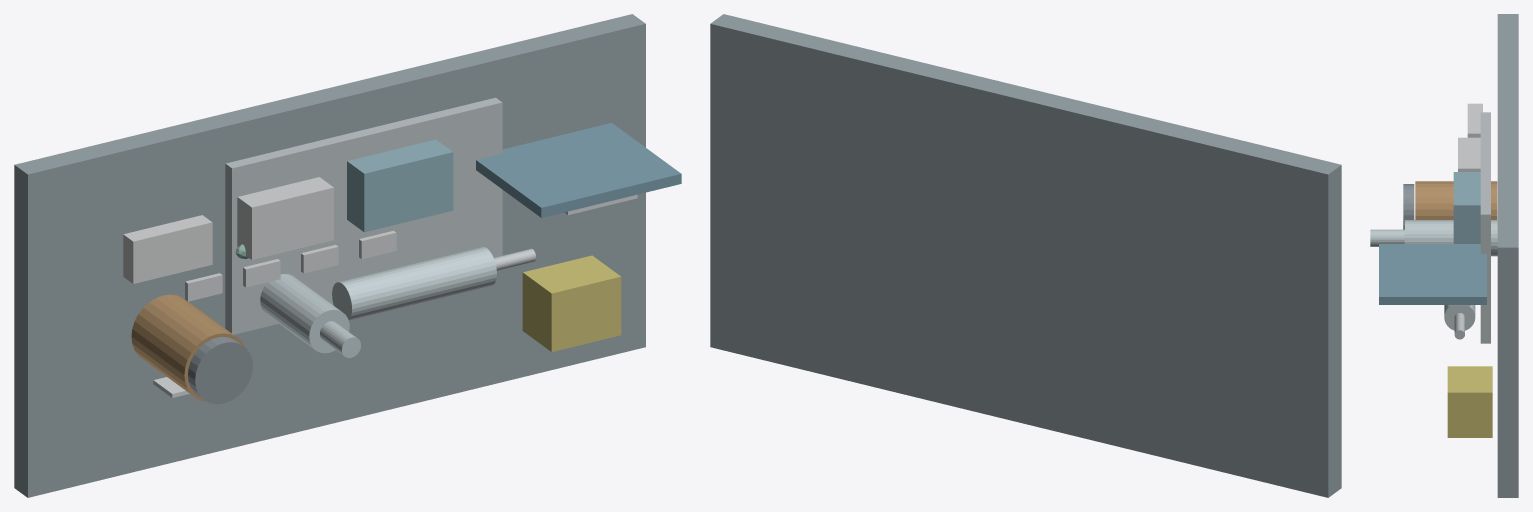
The model's file is medication-bench-high.glb.
The picture shows the model from 3 angles, left to right: view 1: azimuth 30°, elevation 25°; view 2: azimuth 150°, elevation 25°; view 3: azimuth 270°, elevation 25°; orthographic projection. The views are drawn at different scales.
Parts seen in each view (by area): view 1: workbench, tray, case_board, discard_box, glove_box_proxy, training_syringe_barrel, swab_pack_proxy, vial_body, label_card_proxy, ampoule_body, vial_cap, ampoule_neck (+4 smaller); view 2: workbench; view 3: workbench, case_board, discard_box, tray, glove_box_proxy, vial_body, ampoule_body, swab_pack_proxy, training_syringe_barrel, ampoule_neck, label_card_proxy, vial_cap (+1 smaller).
Boxes of the visible parts, x1,y1,x2,y2 form: workbench: (14,14,645,497); tray: (225,97,502,334); case_board: (476,123,681,217); discard_box: (522,255,621,351); glove_box_proxy: (347,139,453,232); training_syringe_barrel: (332,247,496,320); swab_pack_proxy: (237,177,333,259); vial_body: (131,294,245,401); label_card_proxy: (123,215,212,283); ampoule_body: (260,274,349,353); vial_cap: (188,337,252,404); ampoule_neck: (320,321,360,357); workbench: (710,14,1341,497); workbench: (1497,14,1518,497); case_board: (1379,244,1486,304); discard_box: (1447,366,1492,437); tray: (1480,112,1490,343); glove_box_proxy: (1453,172,1480,243); vial_body: (1415,181,1497,219); ampoule_body: (1404,220,1497,256); swab_pack_proxy: (1458,137,1480,171); training_syringe_barrel: (1444,305,1475,330); ampoule_neck: (1370,229,1404,246); label_card_proxy: (1467,103,1482,137); vial_cap: (1403,184,1414,229).
Bounding box in the file's own units: 6.4 × 3.2 × 1.71.
